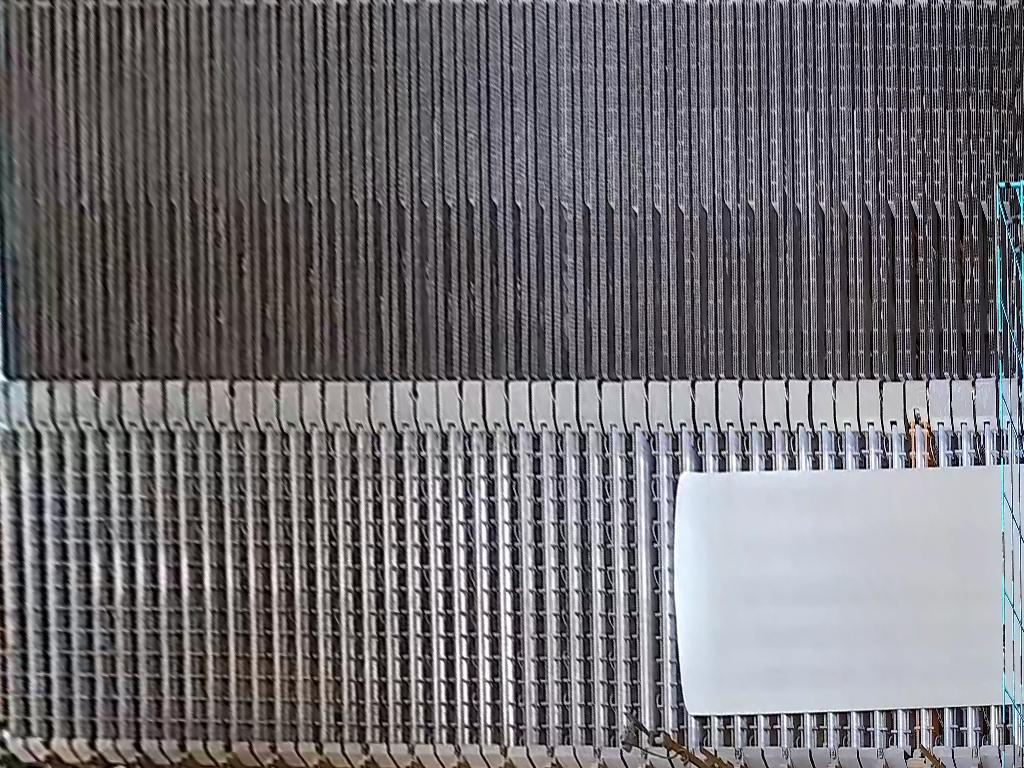steel: (675, 464, 1023, 718)
